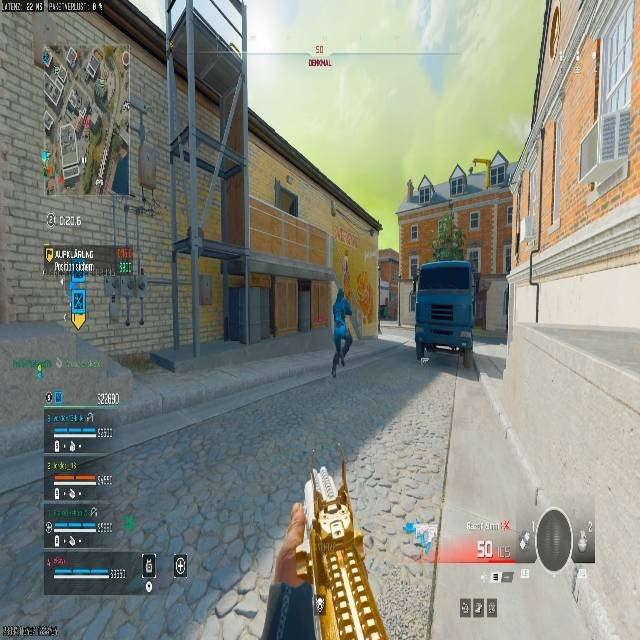head: (336, 289, 344, 299)
player: (329, 289, 354, 377)
